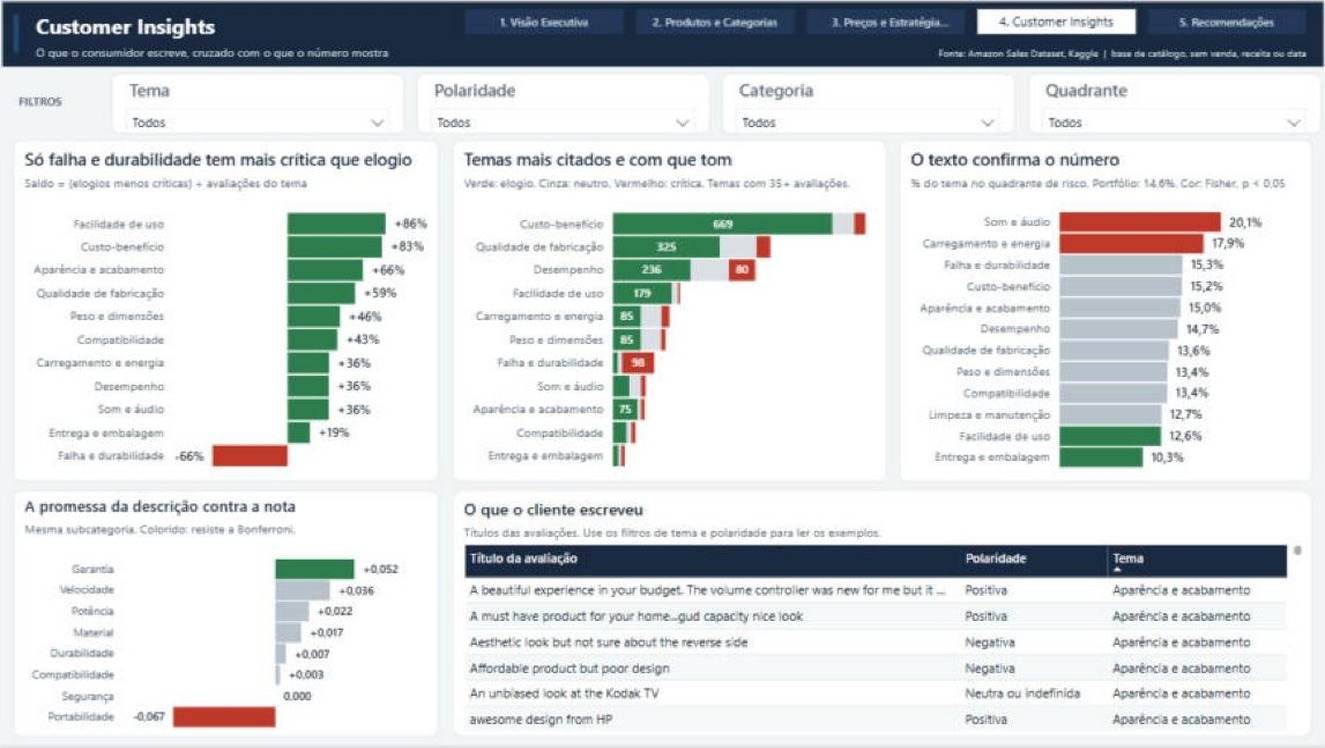

What the dashboard file says about the page in this screenshot:
{"tool":"powerbi","page":{"name":"4. Customer Insights","canvas":[1280,720],"ordinal":3},"visuals":[{"type":"basicShape","box":[0,0,1280,64],"z":0},{"type":"basicShape","box":[0,64,1280,2],"z":1000},{"type":"basicShape","box":[24,12,5,38],"z":2000},{"type":"textbox","box":[40,6,400,41],"z":3000},{"type":"textbox","box":[40,36,760,28],"z":4000},{"type":"textbox","box":[800,36,456,26],"z":6000},{"type":"textbox","box":[24,84,84,28],"z":7000},{"type":"slicer","fields":{"Values":["dTema.tema"]},"box":[116,70,278,58],"z":8000},{"type":"slicer","fields":{"Values":["fTemaAvaliacao.polaridade"]},"box":[406,70,278,58],"z":9000},{"type":"slicer","fields":{"Values":["fProdutos.categoria_n1_agrupada"]},"box":[696,70,278,58],"z":10000},{"type":"slicer","fields":{"Values":["fProdutos.quadrante"]},"box":[986,70,278,58],"z":11000},{"type":"clusteredBarChart","title":"Só falha e durabilidade tem mais crítica que elogio","fields":{"Category":["dTema.tema"],"Y":["fProdutos.Saldo Exibivel"]},"box":[24,134,404,330],"z":12000},{"type":"barChart","title":"Temas mais citados e com que tom","fields":{"Category":["dTema.tema"],"Y":["fProdutos.Elogios","fProdutos.Sem polaridade","fProdutos.Críticas"]},"box":[440,134,412,330],"z":13000},{"type":"clusteredBarChart","title":"O texto confirma o número","fields":{"Category":["dTema.tema"],"Y":["fProdutos.Taxa de Risco do Tema"]},"box":[864,134,392,330],"z":14000},{"type":"tableEx","title":"O que o cliente escreveu","fields":{"Values":["fTemaAvaliacao.titulo","fTemaAvaliacao.polaridade","fTemaAvaliacao.tema"]},"box":[440,474,816,238],"z":15000},{"type":"clusteredBarChart","title":"A promessa da descrição contra a nota","fields":{"Category":["fAtributoProduto.atributo"],"Y":["fProdutos.Diferenca de Nota Ajustada"]},"box":[24,474,404,238],"z":16000},{"type":"pageNavigator","box":[452,7,804,26],"z":60000}]}

Visuals, with their boxes in screenshot pixels (x1, y1, x2, y2), scaled from the page's 1280x720 canvas onto the 1325x748 screenshot:
basicShape: <box>0,0,1324,66</box>
basicShape: <box>0,66,1324,69</box>
basicShape: <box>25,12,30,52</box>
textbox: <box>41,6,455,49</box>
textbox: <box>41,37,828,66</box>
textbox: <box>828,37,1300,64</box>
textbox: <box>25,87,112,116</box>
slicer - dTema.tema: <box>120,73,408,133</box>
slicer - fTemaAvaliacao.polaridade: <box>420,73,708,133</box>
slicer - fProdutos.categoria_n1_agrupada: <box>720,73,1008,133</box>
slicer - fProdutos.quadrante: <box>1021,73,1308,133</box>
"Só falha e durabilidade tem mais crítica que elogio" clusteredBarChart: <box>25,139,443,482</box>
"Temas mais citados e com que tom" barChart: <box>455,139,882,482</box>
"O texto confirma o número" clusteredBarChart: <box>894,139,1300,482</box>
"O que o cliente escreveu" tableEx: <box>455,492,1300,740</box>
"A promessa da descrição contra a nota" clusteredBarChart: <box>25,492,443,740</box>
pageNavigator: <box>468,7,1300,34</box>
